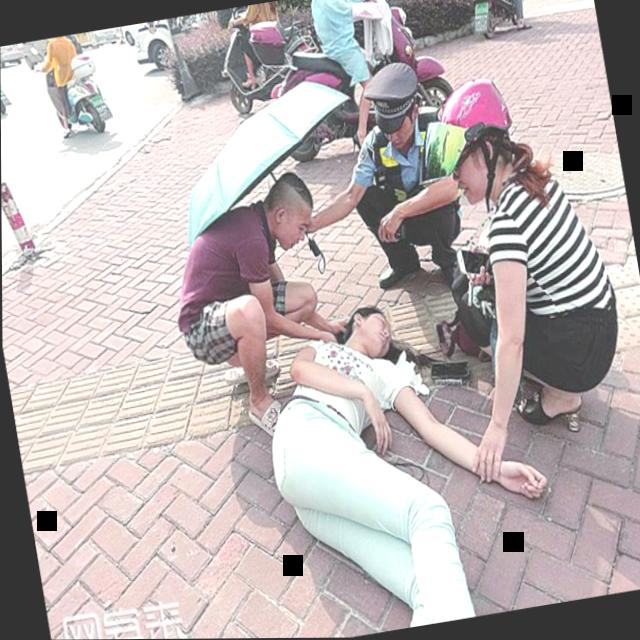Fall-Detected: (238, 242, 585, 639)
